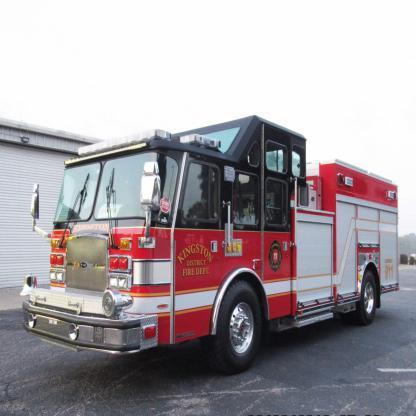fire-truck: (18, 46, 410, 406)
